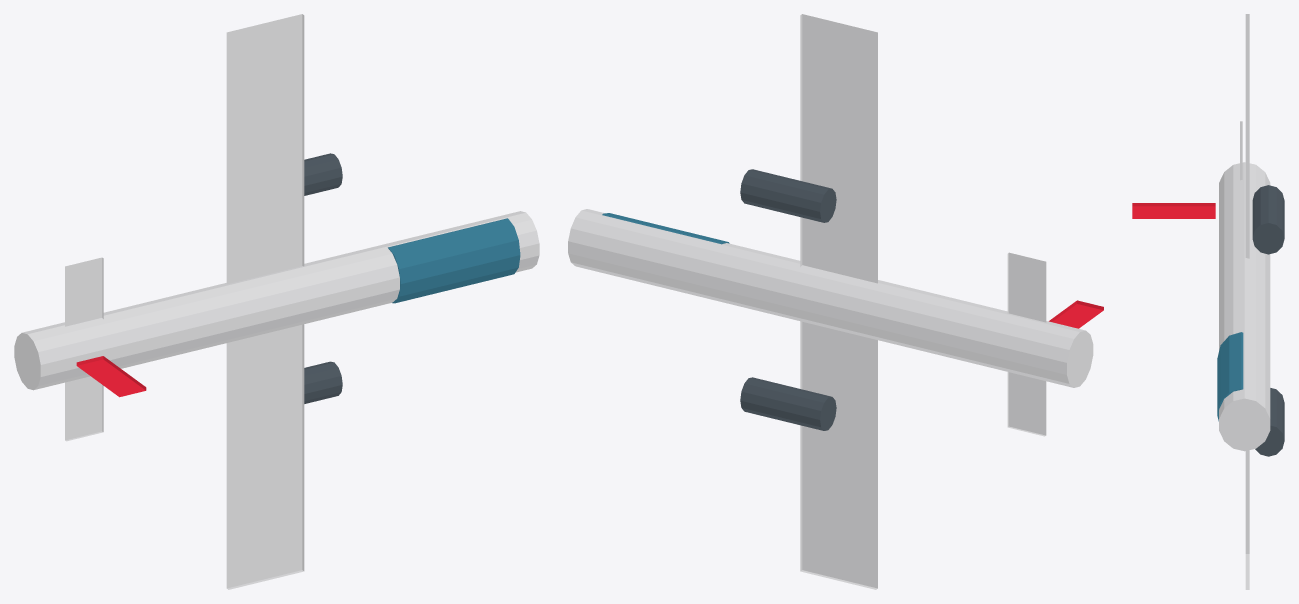
3 renders of one model, left to right at view 1: azimuth 30°, elevation 25°; view 2: azimuth 150°, elevation 25°; view 3: azimuth 270°, elevation 25°, orthographic. The views are drawn at different scales.
Visible parts, largest first — view 1: Boeing 737-700; view 2: Boeing 737-700; view 3: Boeing 737-700.
Boxes of the visible parts, bbox=[...] form: Boeing 737-700: bbox=[14, 14, 539, 589]; Boeing 737-700: bbox=[568, 14, 1103, 589]; Boeing 737-700: bbox=[1132, 14, 1284, 589].
Size of the model in its own units: 33.6 by 35.8 by 9.15.
